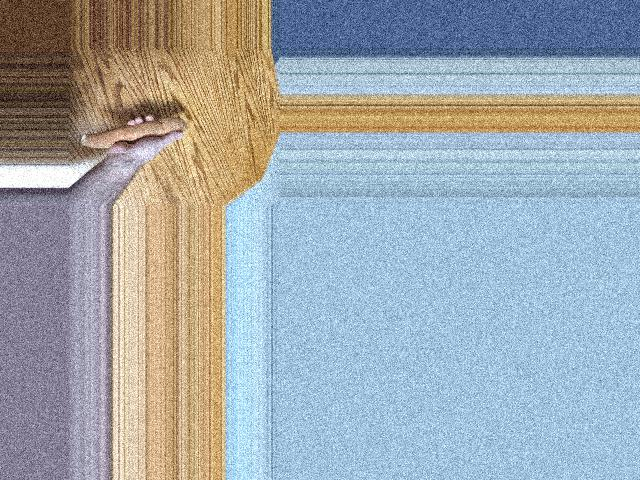sweet_potato: (76, 115, 186, 152)
